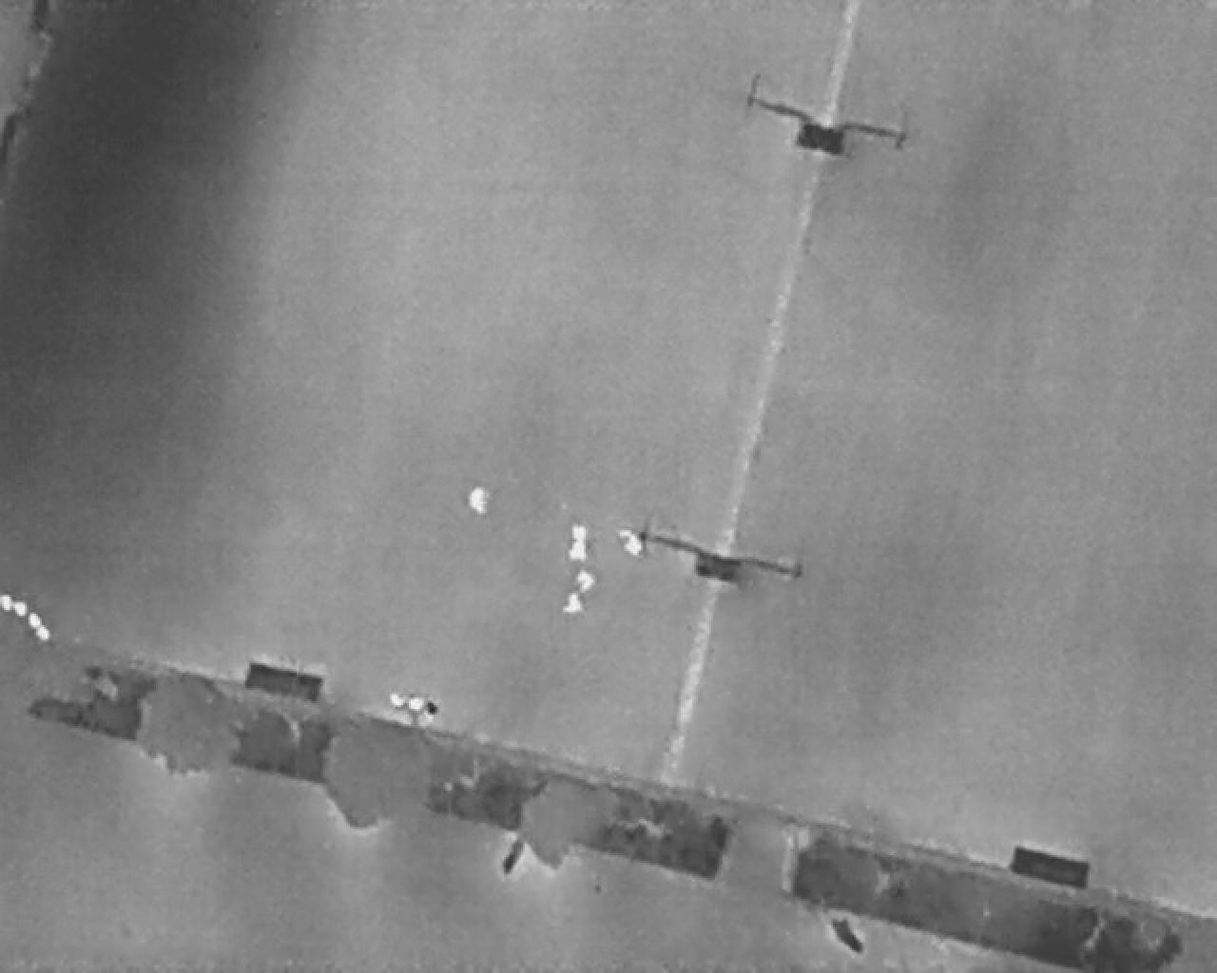person: (469, 486, 490, 516), (564, 594, 587, 617), (577, 569, 596, 594), (625, 535, 644, 558), (570, 541, 589, 563), (571, 524, 589, 543)
